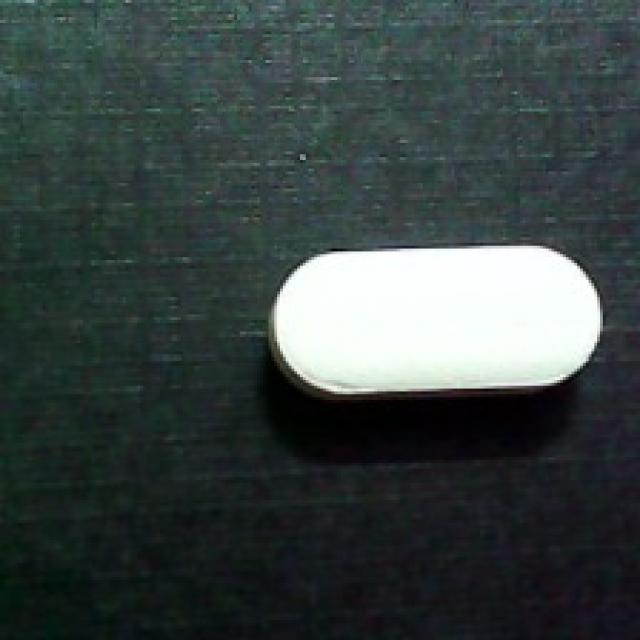no-defect: (263, 243, 609, 411)
